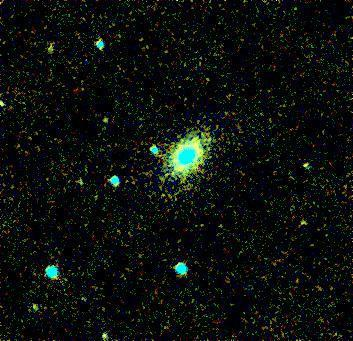star: (91, 108, 121, 138)
